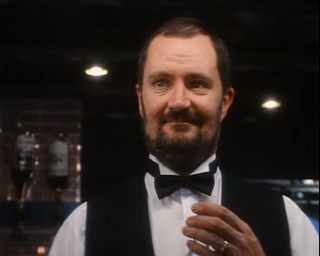cu: (1, 1, 320, 256)
face: (142, 49, 221, 161)
person: (46, 16, 319, 256)
